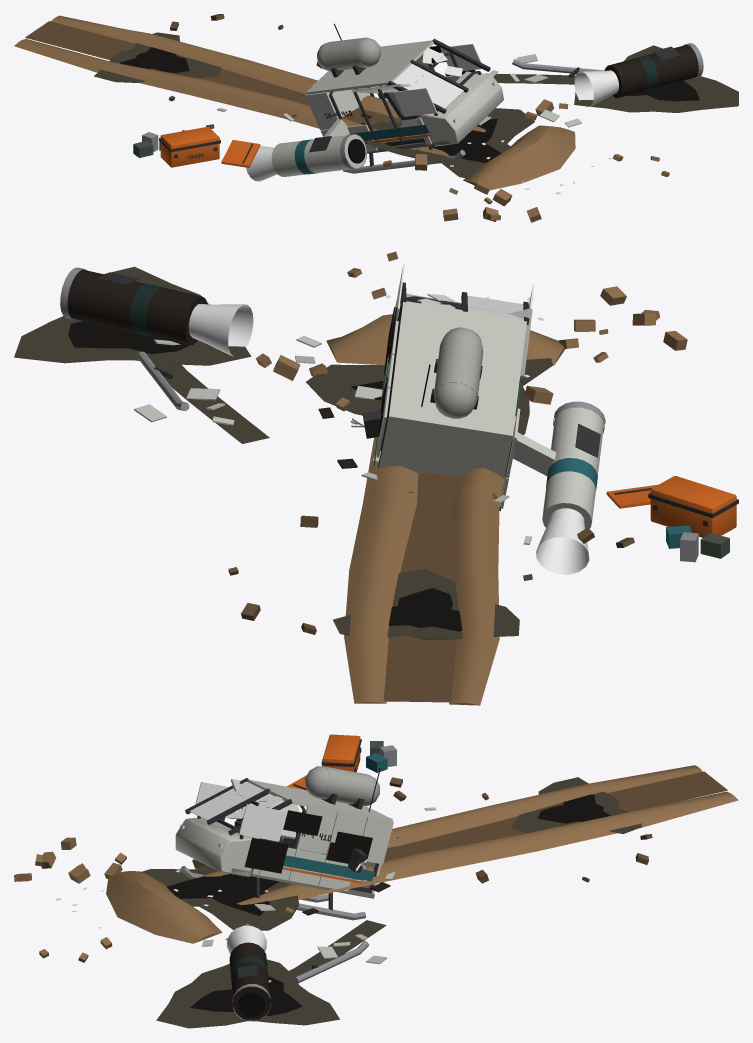
File: crashed-skiff.glb
The picture shows the model from 3 angles, top to bottom: view 1: azimuth 30°, elevation 25°; view 2: azimuth 150°, elevation 25°; view 3: azimuth 270°, elevation 25°; orthographic projection. The views are drawn at different scales.
Parts seen in each view (by area): view 1: C0_0_lod0, C0_-1_lod0, C-1_0_lod0, C-1_-1_lod0; view 2: C0_0_lod0, C-1_0_lod0, C0_-1_lod0, C-1_-1_lod0; view 3: C0_0_lod0, C0_-1_lod0, C-1_0_lod0, C-1_-1_lod0.
Part boxes in pixels (bbox=[...]): C0_0_lod0: bbox=[14, 15, 738, 190]; C0_-1_lod0: bbox=[367, 38, 703, 222]; C-1_0_lod0: bbox=[133, 14, 433, 181]; C-1_-1_lod0: bbox=[242, 64, 500, 221]; C0_0_lod0: bbox=[14, 266, 565, 705]; C-1_0_lod0: bbox=[241, 301, 738, 634]; C0_-1_lod0: bbox=[60, 251, 626, 511]; C-1_-1_lod0: bbox=[389, 284, 687, 528]; C0_0_lod0: bbox=[106, 765, 738, 1028]; C0_-1_lod0: bbox=[14, 788, 374, 1021]; C-1_0_lod0: bbox=[247, 734, 652, 893]; C-1_-1_lod0: bbox=[35, 778, 328, 902].
Size of what is drawn, in the model's own units: 16.8 by 4.19 by 18.55.
